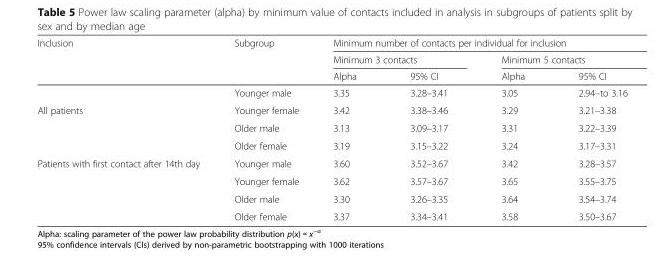table: (36, 36, 626, 221)
table column: (36, 36, 216, 221), (216, 36, 315, 221), (382, 36, 473, 221), (473, 36, 550, 221), (550, 36, 626, 221), (315, 36, 382, 221)
table column header: (36, 36, 626, 83)
table row: (36, 83, 626, 101), (36, 118, 626, 136), (36, 136, 626, 154), (36, 171, 626, 189), (36, 189, 626, 207), (36, 50, 626, 67), (36, 101, 626, 118), (36, 154, 626, 171), (36, 67, 626, 83), (36, 36, 626, 50), (36, 207, 626, 221)
table spanning cell: (36, 154, 216, 221), (36, 101, 216, 154), (36, 36, 216, 83), (216, 36, 315, 83), (315, 36, 626, 50), (315, 50, 473, 67), (473, 50, 626, 67)
